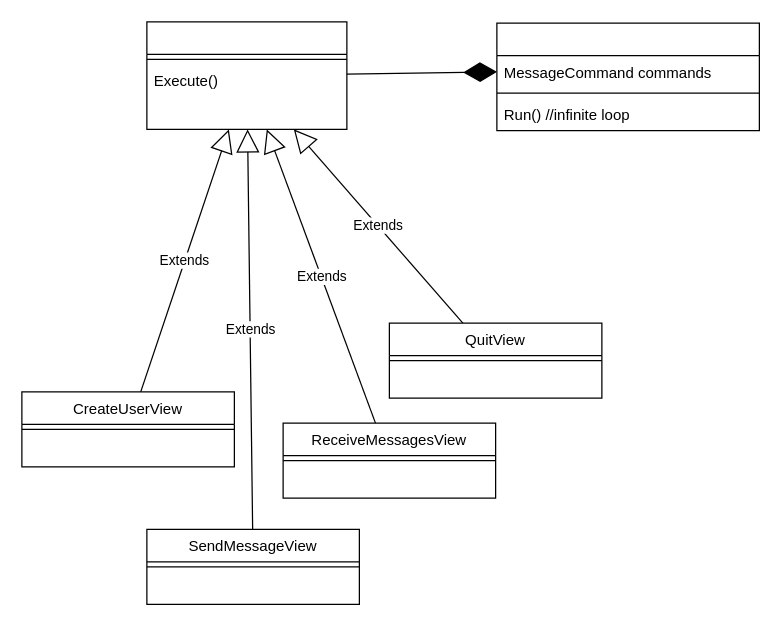
The diagram is 781 pixels wide and 626 high, and some of its shapes have lost their labels. Each missing label, with the box of its shape:
ConsoleView: (496, 22, 759, 131)
IMessageCommand: (146, 21, 347, 129)
